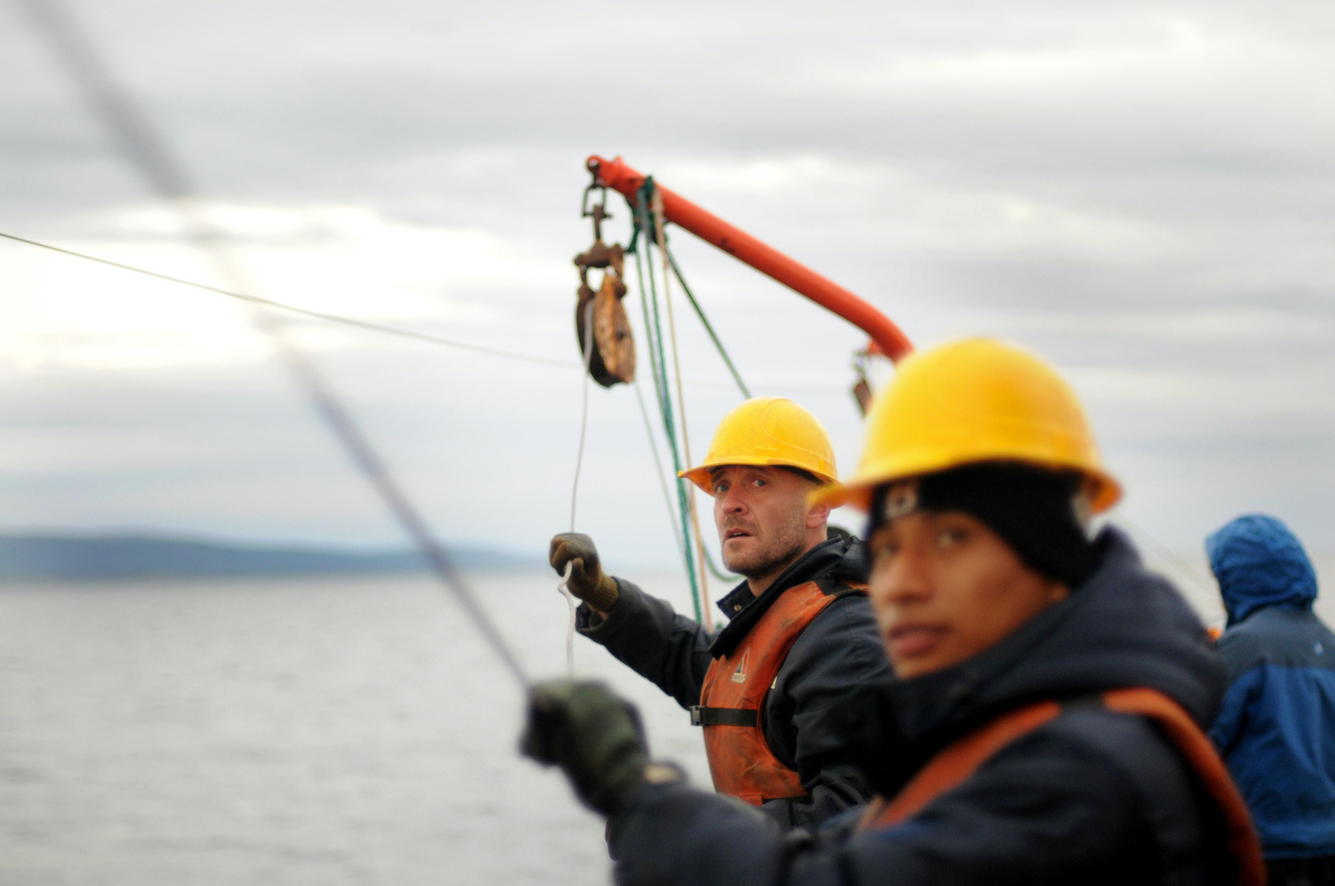Helmet: (660, 397, 870, 486)
